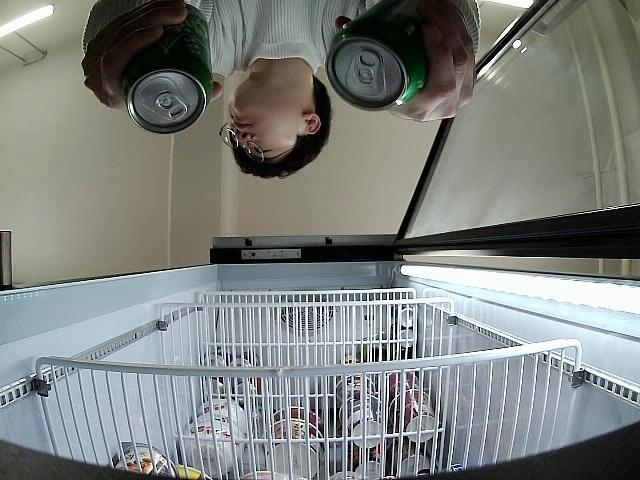12_chilsungCider: (122, 3, 215, 136), (324, 0, 427, 113)
